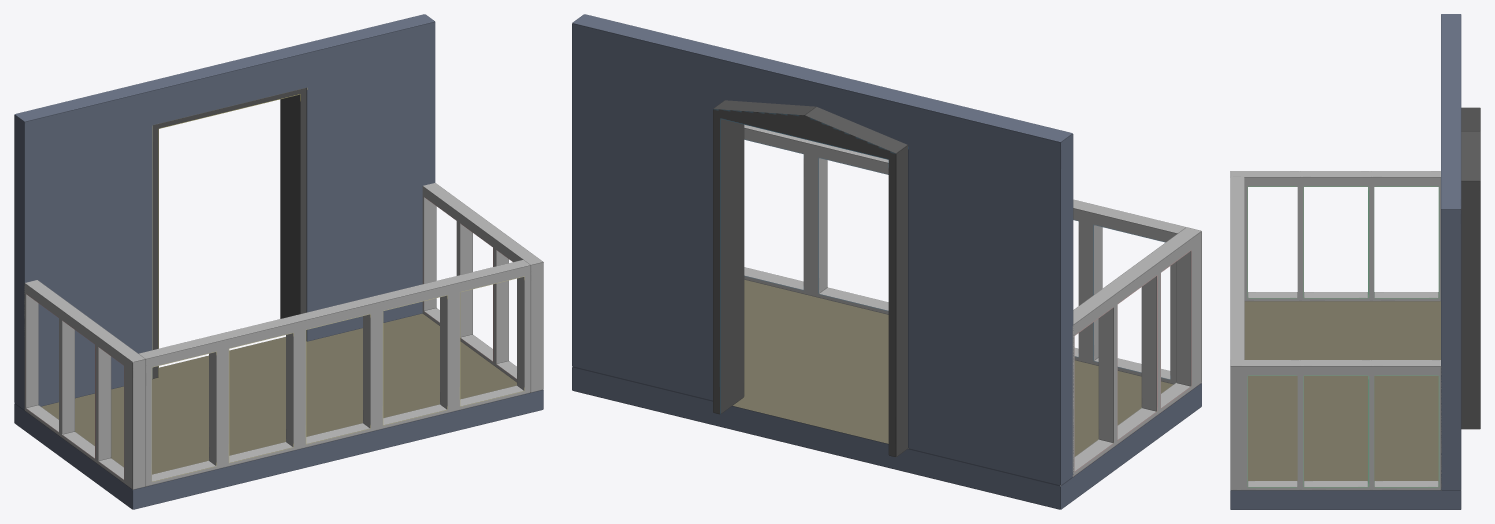
The model's file is HomeBalcony.obj.
3 views of the same model, side by side, from view 1: azimuth 30°, elevation 25°; view 2: azimuth 150°, elevation 25°; view 3: azimuth 270°, elevation 25° (orthographic). The views are drawn at different scales.
Parts seen in each view (by area): view 1: cuboid; view 2: cuboid; view 3: cuboid.
Part boxes in pixels (x1,y1,x2,y2): cuboid: [14, 14, 543, 509]; cuboid: [572, 14, 1201, 509]; cuboid: [1230, 14, 1480, 509].
Bounding box in the file's own units: 4 × 2.88 × 2.17.
1 material, 1 textured.
